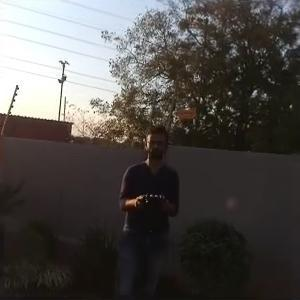follow: (114, 116, 183, 298)
